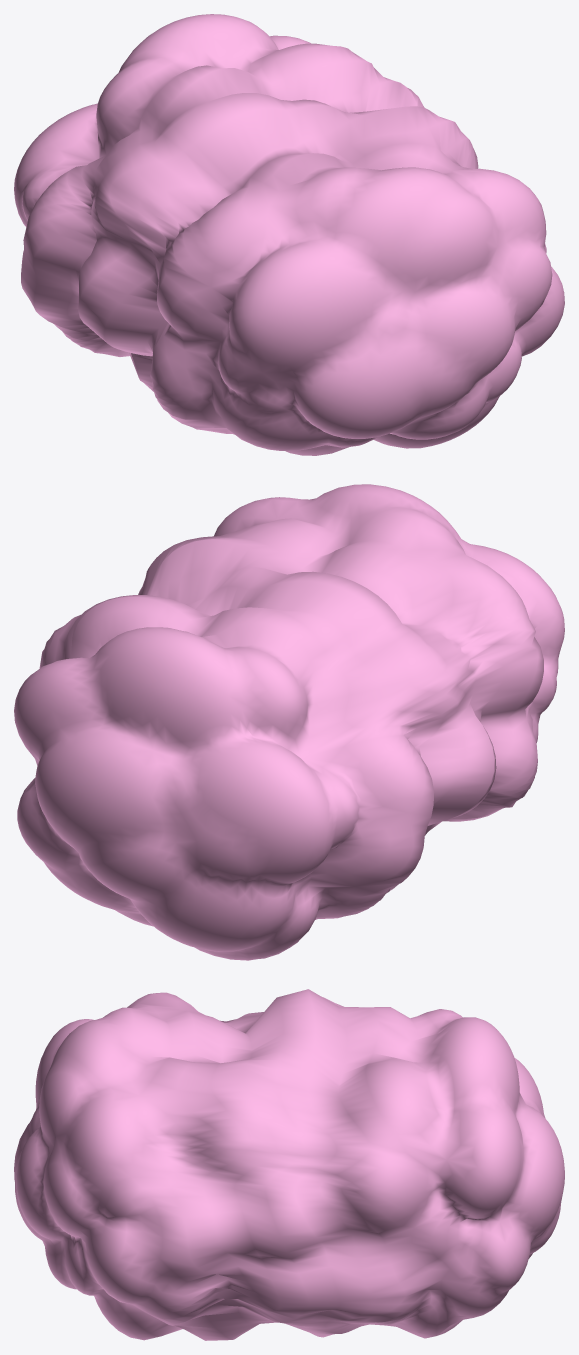
The model's file is cloud5.fbx.
3 renders of one model, top to bottom at view 1: azimuth 30°, elevation 25°; view 2: azimuth 150°, elevation 25°; view 3: azimuth 270°, elevation 25°, orthographic. The views are drawn at different scales.
Visible parts, largest first — view 1: cloud5; view 2: cloud5; view 3: cloud5.
Part boxes in pixels (x1,y1,x2,y2): cloud5: (14, 14, 564, 455); cloud5: (14, 484, 564, 960); cloud5: (14, 989, 564, 1340).
Size of the model in its own units: 1091 by 817 by 1389.
